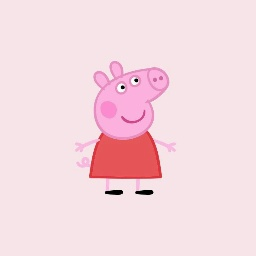Peppa: (75, 60, 180, 195)
